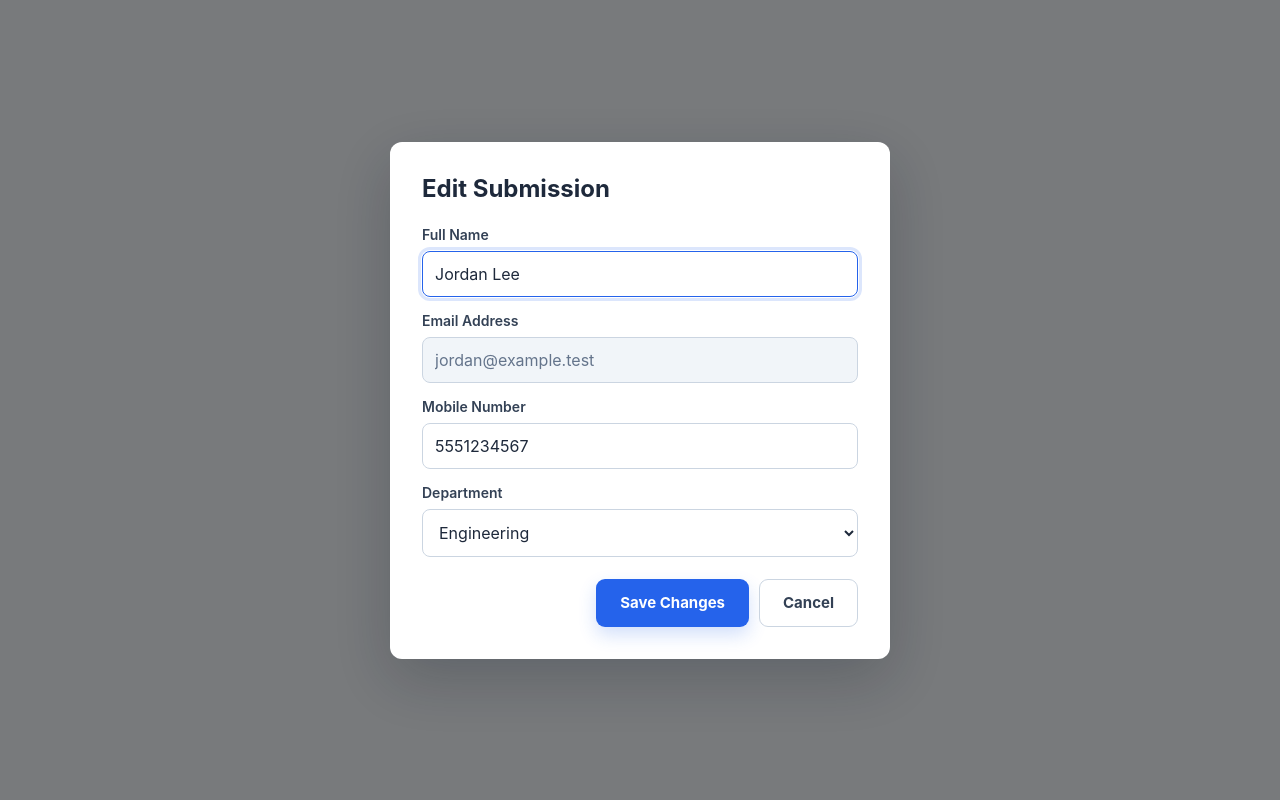
Test: submission editor › rejects invalid editable values and leaves the record unchanged
Replace the text in the field labelled "Full Name" with "Jordan-2": (640, 274) [422,250,858,296]
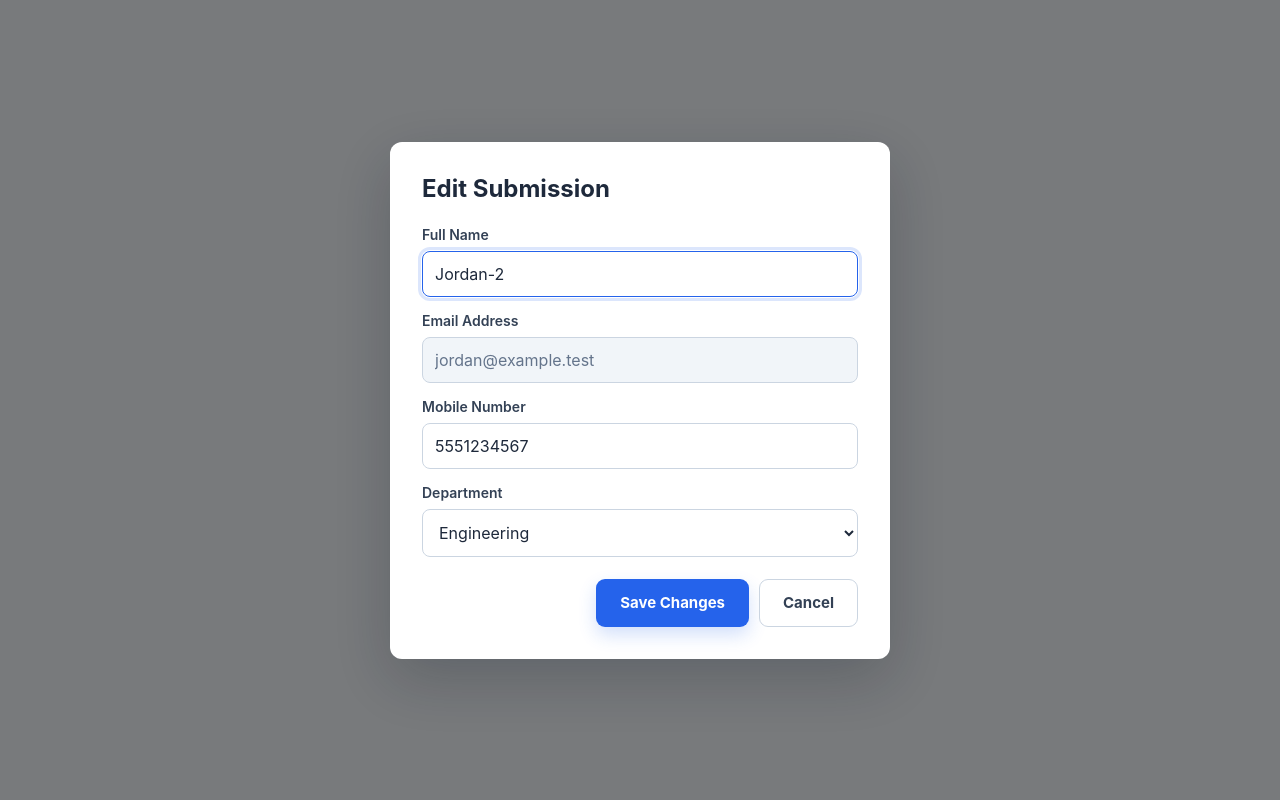
Click the button "Save Changes": (673, 602) [596,578,749,626]
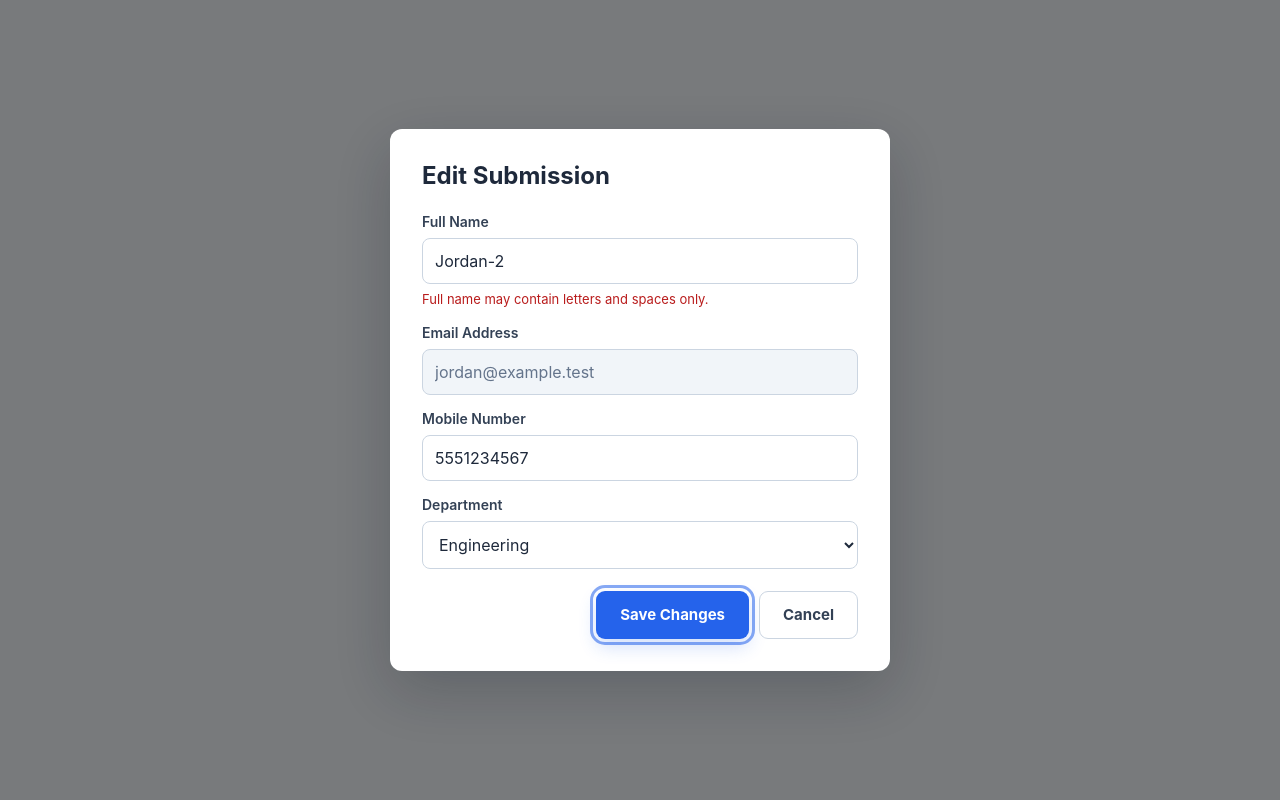
Check: the text "Full name may contain letters and spaces only." is shown, box [422,291,709,307]
